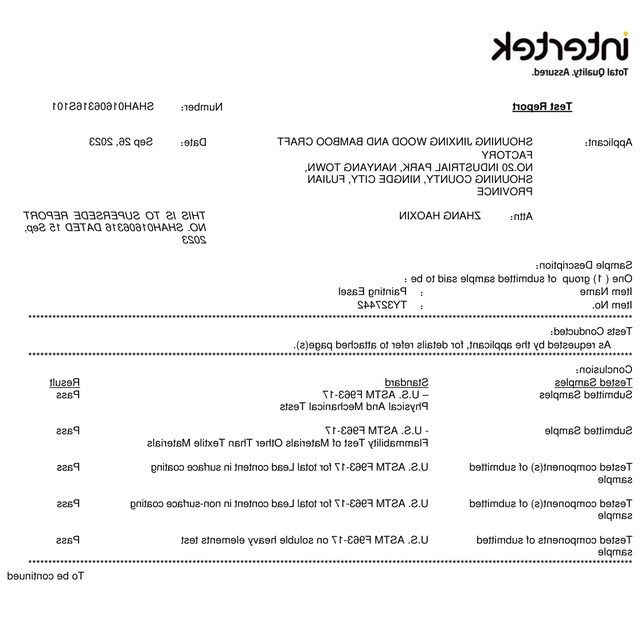intertek: (487, 27, 632, 66)
